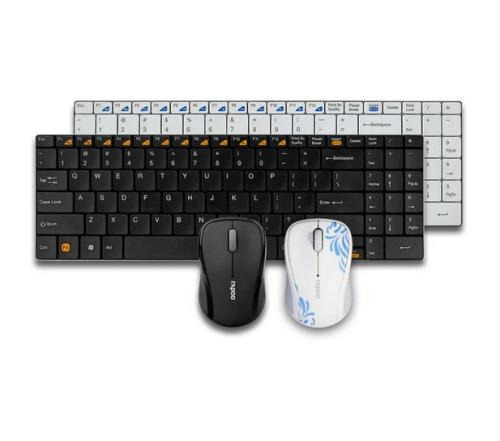keyboard: (71, 98, 461, 232), (33, 133, 425, 265)
mouse: (194, 216, 268, 328), (281, 219, 354, 329)
